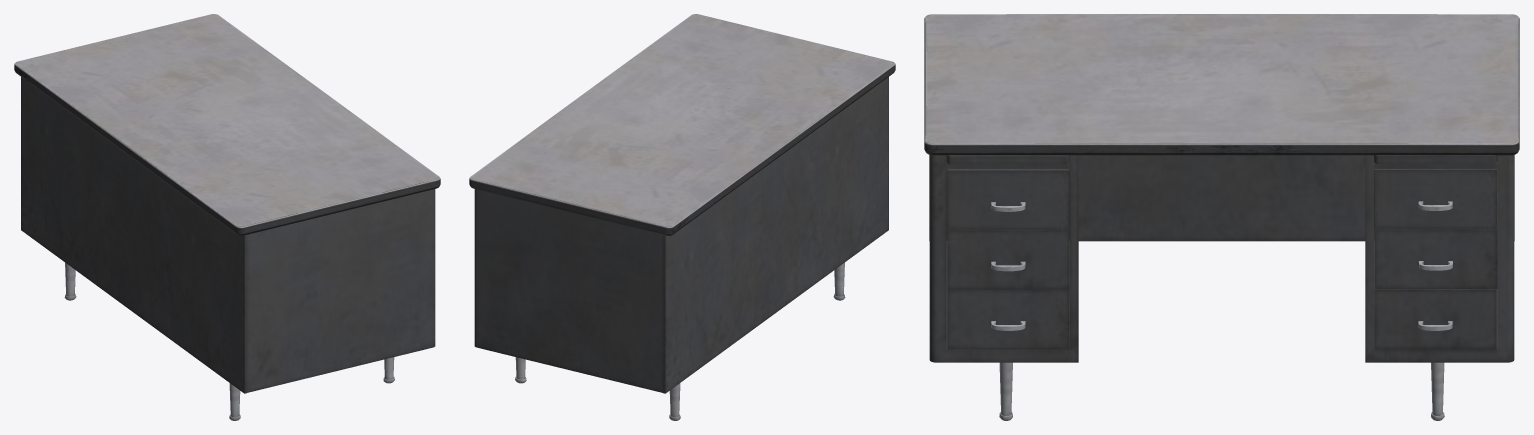
File: bureau.glb
3 renders of one model, left to right at view 1: azimuth 30°, elevation 25°; view 2: azimuth 150°, elevation 25°; view 3: azimuth 270°, elevation 25°, orthographic. The views are drawn at different scales.
Bounding box in the file's own units: 0.75 × 0.75 × 1.4.
Materials: 9 (9 with a texture image).
